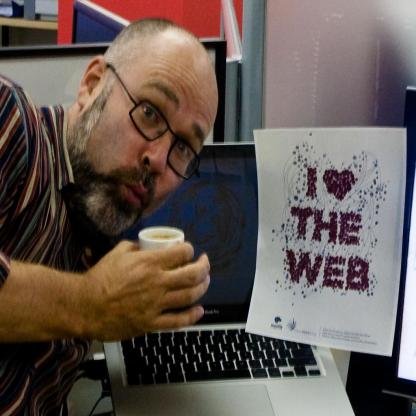board: (101, 122, 358, 416)
